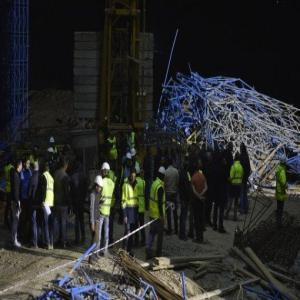none: (14, 159, 23, 176), (130, 168, 137, 186), (61, 156, 69, 171), (25, 155, 32, 172), (33, 162, 40, 173), (44, 163, 50, 174)
white: (94, 175, 104, 193), (158, 166, 167, 183), (102, 162, 111, 178), (280, 154, 288, 168), (126, 153, 132, 167), (131, 148, 137, 162), (50, 137, 56, 148)
